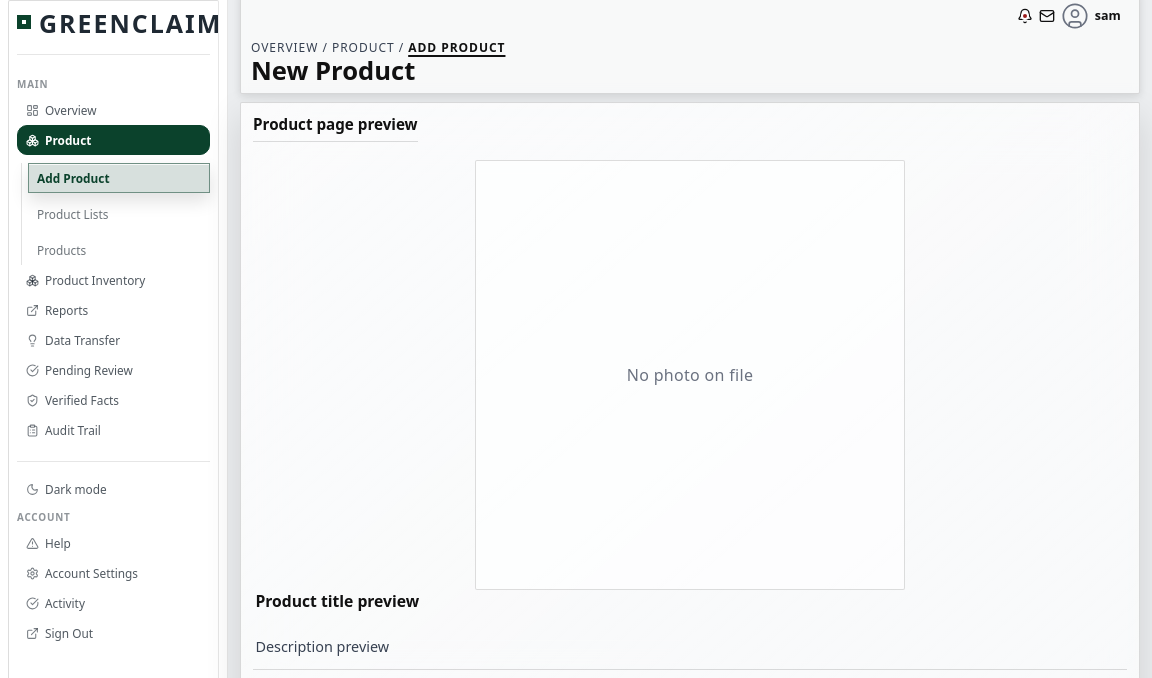
Test: a Senior Editor › with the full permissions the review offers to edit the facts, and it opens that product's facts
Step 1. Click the button "Pending Review" → (114, 370), box left=17, top=355, right=210, bottom=385
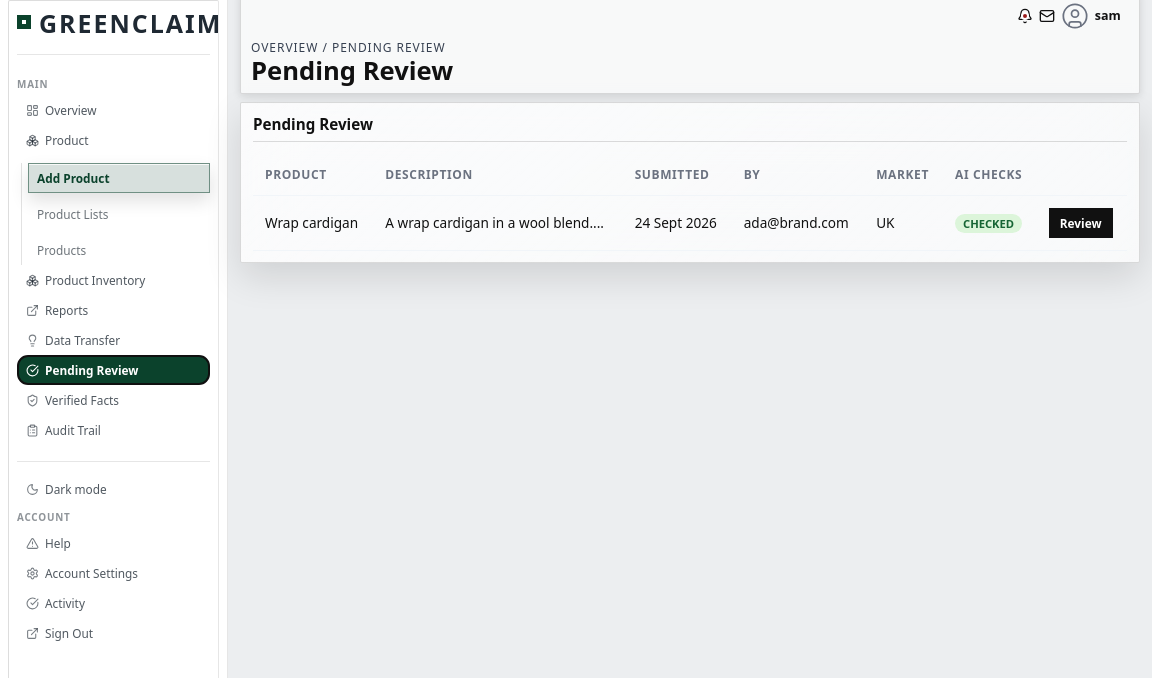
Step 2. Click the button "Review" → (1081, 223), box left=1049, top=208, right=1113, bottom=238
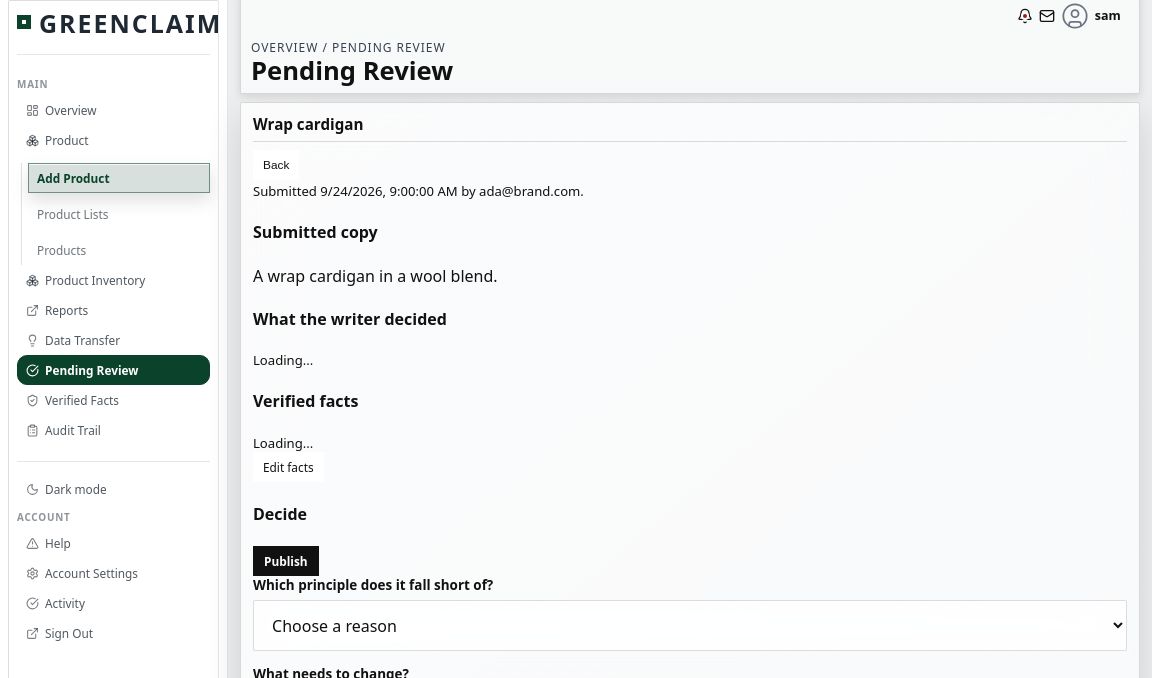
Step 3. Click the button "Edit facts" → (288, 467), box left=253, top=452, right=324, bottom=482
(page scrolled)
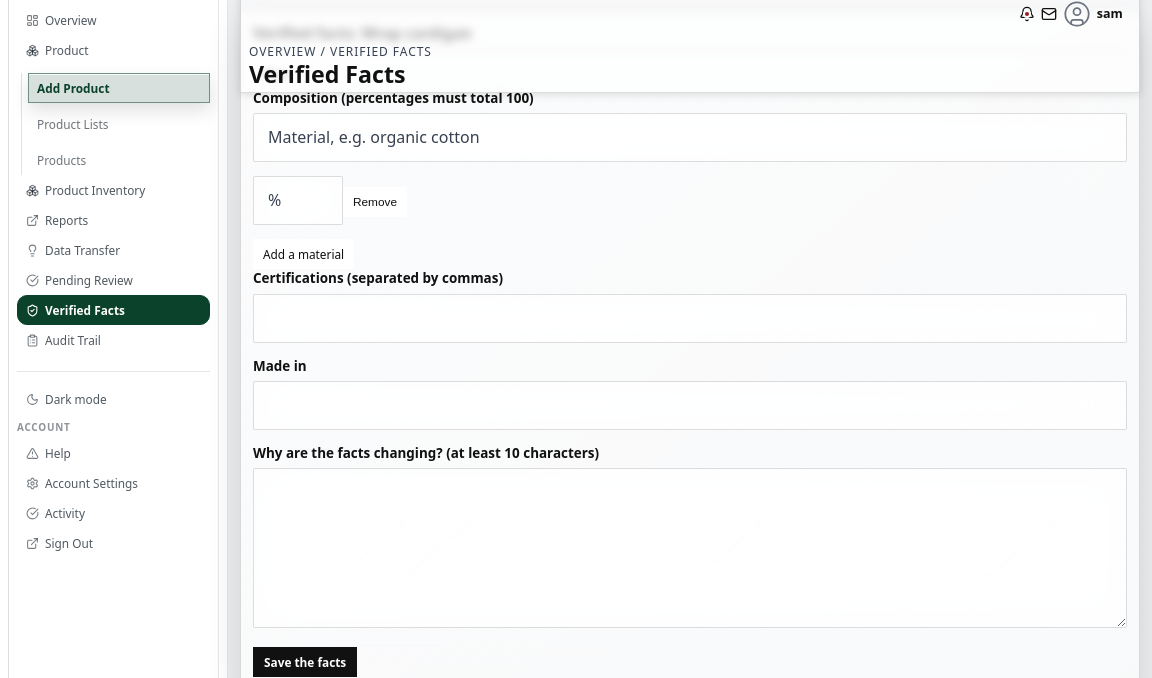
Expected: the heading "Verified facts: Wrap cardigan" is shown, left=253, top=23, right=1127, bottom=51
Expected: the text box labelled "Why are the facts changing? (at least 10 characters)" is enabled, left=253, top=468, right=1127, bottom=628
